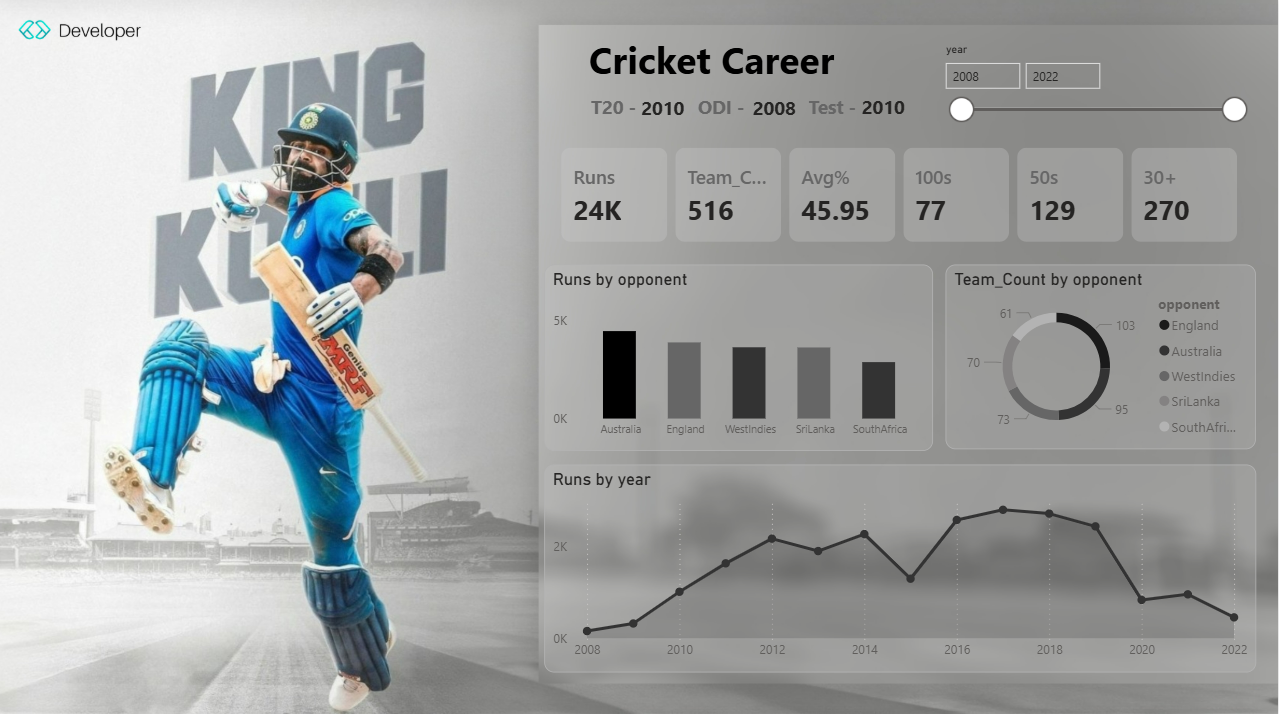

This screenshot's page, from the dashboard's own definition file:
{"tool":"powerbi","page":{"name":"Virat_Kohli","canvas":[1280,720],"ordinal":0},"visuals":[{"type":"cardVisual","fields":{"Data":["Measures_Table.Runs","Measures_Table.Team_Count","Measures_Table.Avg%","Measures_Table.100s","Measures_Table.50s","Measures_Table.30+"]},"box":[546,134,712,128],"z":0},{"type":"clusteredColumnChart","fields":{"Y":["Measures_Table.Runs"],"Category":["Virat_Kohli.opponent"]},"box":[546.2,267.5,388.8,186.2],"z":1000},{"type":"donutChart","fields":{"Category":["Virat_Kohli.opponent"],"Y":["Measures_Table.Team_Count"]},"box":[947.5,267.5,310,185],"z":2000},{"type":"stackedAreaChart","fields":{"Category":["Calender.year"],"Y":["Measures_Table.Runs"]},"box":[546,468,712,208],"z":3000},{"type":"slicer","fields":{"Values":["Calender.year"]},"box":[935,41.2,322.5,90],"z":4000},{"type":"cardVisual","fields":{"Data":["Measures_Table.T20_First_Match"]},"box":[611.2,77.5,107.5,65],"z":5000},{"type":"shape","box":[557.5,86.2,116.2,47.5],"z":5001},{"type":"cardVisual","fields":{"Data":["Measures_Table.ODI_First_Match"]},"box":[713.8,82.5,125,53.8],"z":5002},{"type":"shape","box":[665,86.2,116.2,47.5],"z":5003},{"type":"cardVisual","fields":{"Data":["Measures_Table.Test_First_Match"]},"box":[823.8,75,123.8,68.8],"z":5004},{"type":"shape","box":[776.2,86.2,116.2,47.5],"z":5005},{"type":"shape","box":[533.8,13.8,360,96.2],"z":5006}]}

Visuals, with their boxes in screenshot pixels (x1, y1, x2, y2), scaled from the page's 1280x720 canvas onto the 1279x714 screenshot:
cardVisual - Measures_Table.Runs x Measures_Table.Team_Count: locate(546, 133, 1257, 260)
clusteredColumnChart - Measures_Table.Runs x Virat_Kohli.opponent: locate(546, 265, 934, 450)
donutChart - Virat_Kohli.opponent x Measures_Table.Team_Count: locate(947, 265, 1257, 449)
stackedAreaChart - Calender.year x Measures_Table.Runs: locate(546, 464, 1257, 670)
slicer - Calender.year: locate(934, 41, 1257, 130)
cardVisual - Measures_Table.T20_First_Match: locate(611, 77, 718, 141)
shape: locate(557, 85, 673, 133)
cardVisual - Measures_Table.ODI_First_Match: locate(713, 82, 838, 135)
shape: locate(664, 85, 781, 133)
cardVisual - Measures_Table.Test_First_Match: locate(823, 74, 947, 143)
shape: locate(776, 85, 892, 133)
shape: locate(533, 14, 893, 109)
